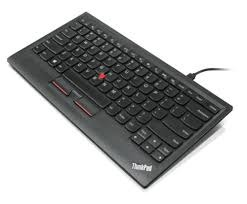keyboard: (4, 13, 233, 192)
